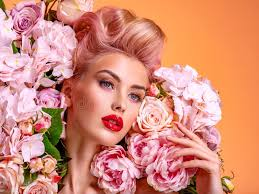white_female: (88, 42, 171, 162)
